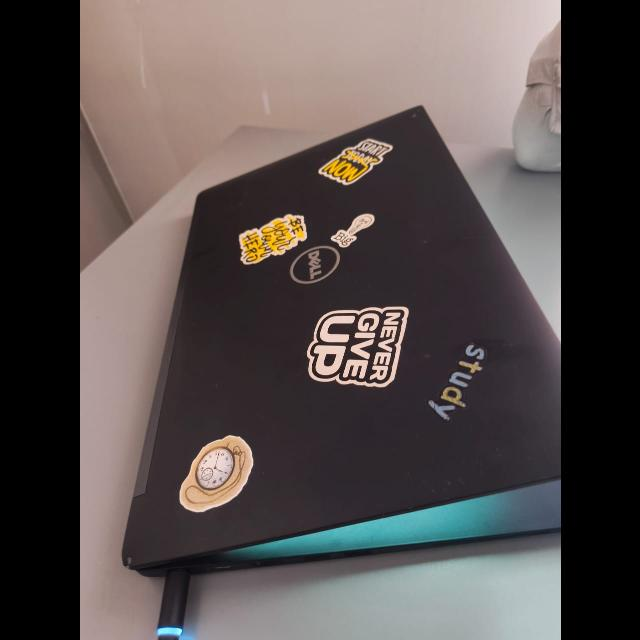laptop: (145, 52, 498, 584)
